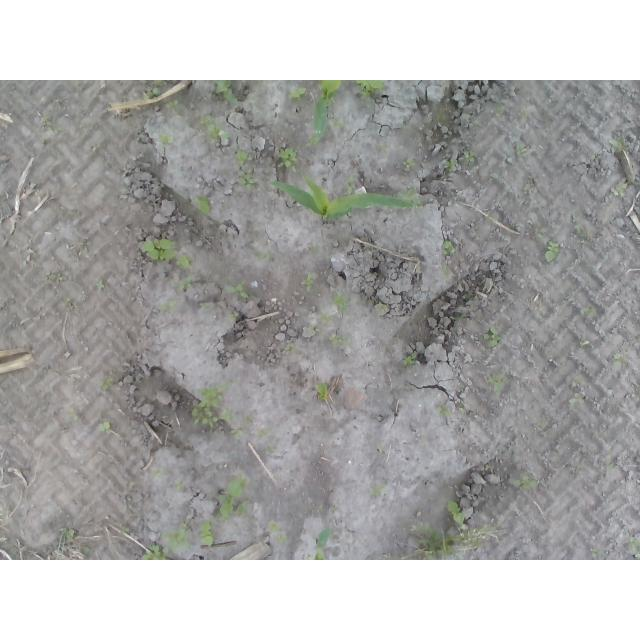Maize: (270, 175, 421, 221), (312, 81, 341, 144), (313, 528, 332, 561)
Weeds: (447, 499, 498, 549), (214, 470, 255, 522), (192, 383, 233, 430), (416, 524, 464, 560), (144, 238, 192, 268), (200, 115, 238, 145), (162, 519, 194, 553), (222, 276, 256, 300), (274, 147, 302, 174), (355, 80, 385, 105), (37, 112, 66, 137), (213, 80, 239, 104), (267, 519, 290, 545), (287, 80, 310, 104), (312, 313, 337, 335), (231, 414, 253, 438), (329, 290, 351, 314), (459, 145, 481, 168), (608, 135, 629, 159), (480, 326, 502, 348), (485, 373, 508, 394), (171, 272, 194, 292), (200, 519, 217, 546), (144, 542, 169, 560), (544, 239, 561, 265), (232, 144, 252, 166), (239, 167, 258, 190), (511, 474, 540, 489), (190, 196, 210, 216), (64, 400, 80, 423), (142, 81, 160, 100), (328, 335, 352, 349), (432, 403, 454, 418), (496, 97, 511, 119), (440, 238, 457, 256), (327, 112, 345, 129), (399, 184, 418, 200), (160, 97, 180, 112), (160, 299, 177, 316), (401, 351, 417, 369), (315, 383, 330, 402), (610, 183, 627, 199), (368, 481, 385, 497), (96, 375, 113, 391), (629, 536, 640, 560), (62, 527, 79, 542), (98, 416, 113, 433), (301, 271, 315, 289), (344, 176, 357, 195), (443, 158, 457, 175), (159, 132, 177, 145), (79, 239, 93, 255), (516, 143, 530, 159), (612, 352, 625, 369), (569, 392, 586, 405), (81, 544, 96, 558), (256, 251, 275, 262), (48, 272, 65, 284), (308, 241, 321, 256), (399, 159, 417, 169), (150, 465, 163, 478), (256, 427, 271, 438), (583, 307, 598, 318), (223, 312, 241, 321), (264, 444, 276, 457), (578, 336, 591, 348), (284, 343, 297, 354), (175, 480, 186, 493), (374, 303, 386, 314), (306, 135, 319, 145), (520, 105, 528, 121), (376, 442, 385, 456), (607, 463, 618, 474), (591, 547, 602, 557), (484, 213, 494, 224), (95, 279, 105, 289), (458, 400, 466, 412), (447, 316, 465, 321), (160, 80, 171, 88), (55, 552, 65, 560), (632, 180, 640, 189), (64, 296, 72, 304), (199, 303, 209, 309)
